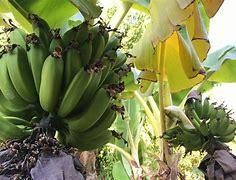banana: (0, 19, 124, 140)
